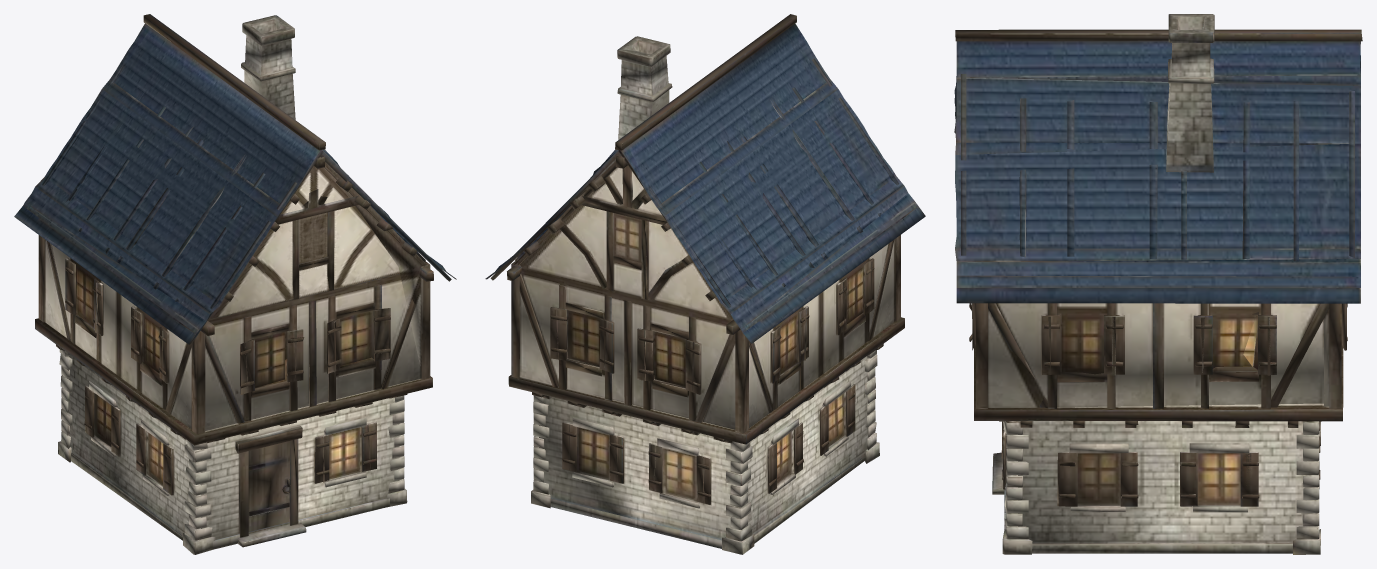
File: townhouse_slate.glb
3 views of the same model, side by side, from view 1: azimuth 30°, elevation 25°; view 2: azimuth 150°, elevation 25°; view 3: azimuth 270°, elevation 25° (orthographic). The views are drawn at different scales.
Bounding box in the file's own units: 0.6196 × 0.9521 × 0.7065.
1 material, 1 textured.
